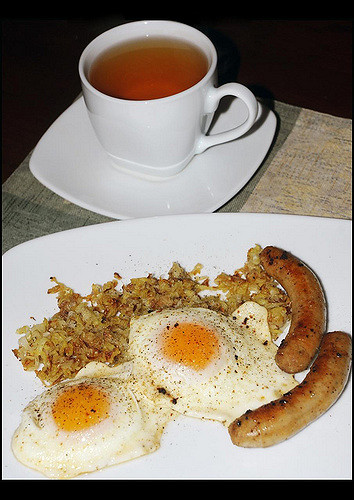fried egg: (133, 308, 282, 418), (11, 373, 171, 475)
